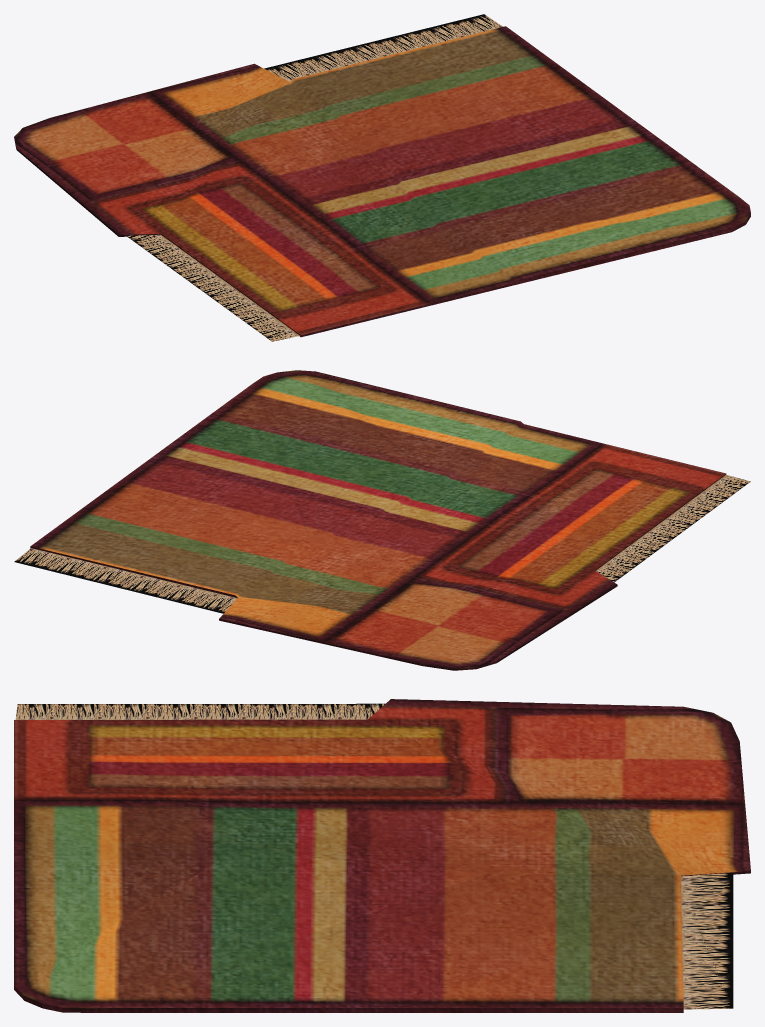
The model's file is M_Home_Garden_Carpet_014.fbx.
3 renders of one model, top to bottom at view 1: azimuth 30°, elevation 25°; view 2: azimuth 150°, elevation 25°; view 3: azimuth 270°, elevation 25°, orthographic. The views are drawn at different scales.
Visible parts, largest first — view 1: M_Home_Garden_Carpet_014; view 2: M_Home_Garden_Carpet_014; view 3: M_Home_Garden_Carpet_014.
Part boxes in pixels (x1,y1,x2,y2): M_Home_Garden_Carpet_014: (14, 14, 750, 341); M_Home_Garden_Carpet_014: (14, 370, 750, 670); M_Home_Garden_Carpet_014: (14, 699, 750, 1012).
Size of the model in its own units: 300 by 2.2 by 300.
